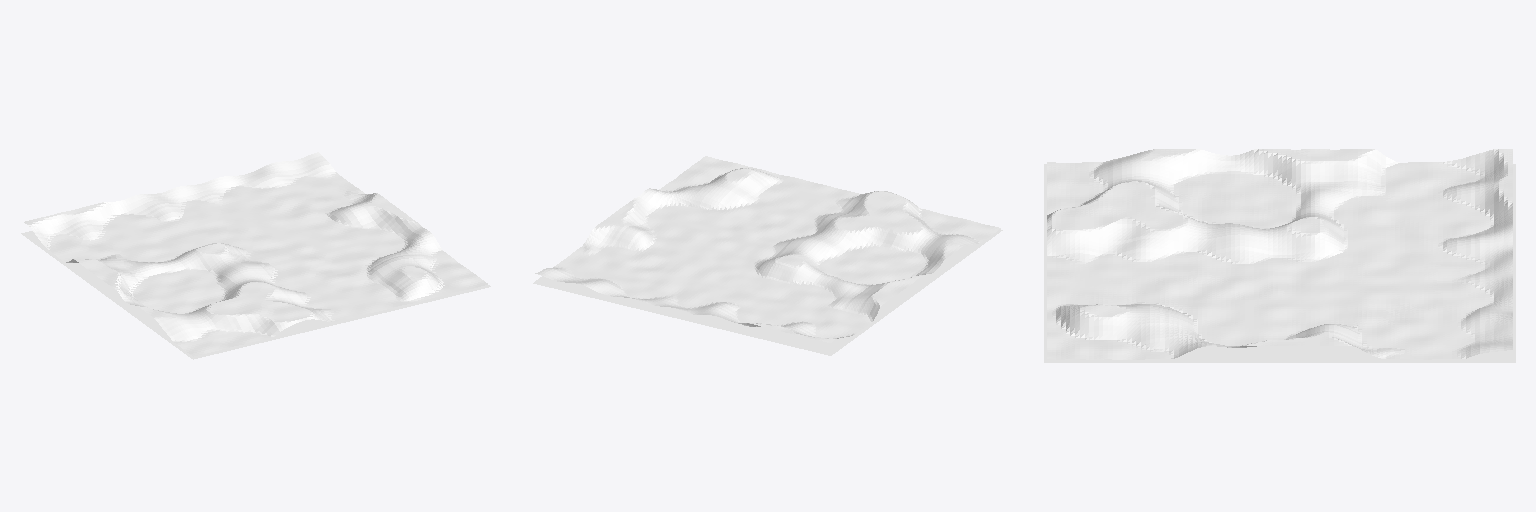
URDF robot description (cube.urdf):
<?xml version="1.0" ?>
<robot name="cube.urdf">
  <link concave="yes" name="baseLink">
    <inertial>
      <origin rpy="0 0 0" xyz="0 0 0"/>
       <mass value=".0"/>
       <inertia ixx="0" ixy="0" ixz="0" iyy="0" iyz="0" izz="0"/>
    </inertial>
    <visual>
      <origin rpy="1.5707963 0 0" xyz="0 0 0"/>
      <geometry>
				<mesh filename="unityexport.obj" scale="1 1 1"/>
      </geometry>
       <material name="white">
        <color rgba="1 1 1 1"/>
      </material>
    </visual>
    <collision concave="yes">
      <origin rpy="1.5707963 0 0" xyz="0 0 0"/>
     <geometry>
				<mesh filename="unityexport.obj" scale="1 1 1"/>
      </geometry>
    </collision>
  </link>
</robot>

--- Render facts (derived) ---
Views: 3 orthographic renders of the robot side by side, from view 1: azimuth 30°, elevation 25°; view 2: azimuth 150°, elevation 25°; view 3: azimuth 270°, elevation 25°.
Model cube.urdf with 1 links and 0 joints (none), rooted at baseLink, posed every joint at zero.
Links seen in each view (by area): view 1: baseLink; view 2: baseLink; view 3: baseLink.
Boxes of the visible links, bbox=[...] form: baseLink: bbox=[21, 152, 490, 359]; baseLink: bbox=[533, 156, 1002, 355]; baseLink: bbox=[1044, 149, 1515, 362].
Size in the robot's own frame: 1000 by 1000 by 39.84 metres.
Meshes: 1 distinct files referenced, 1 mesh visuals loaded (1 OBJ).